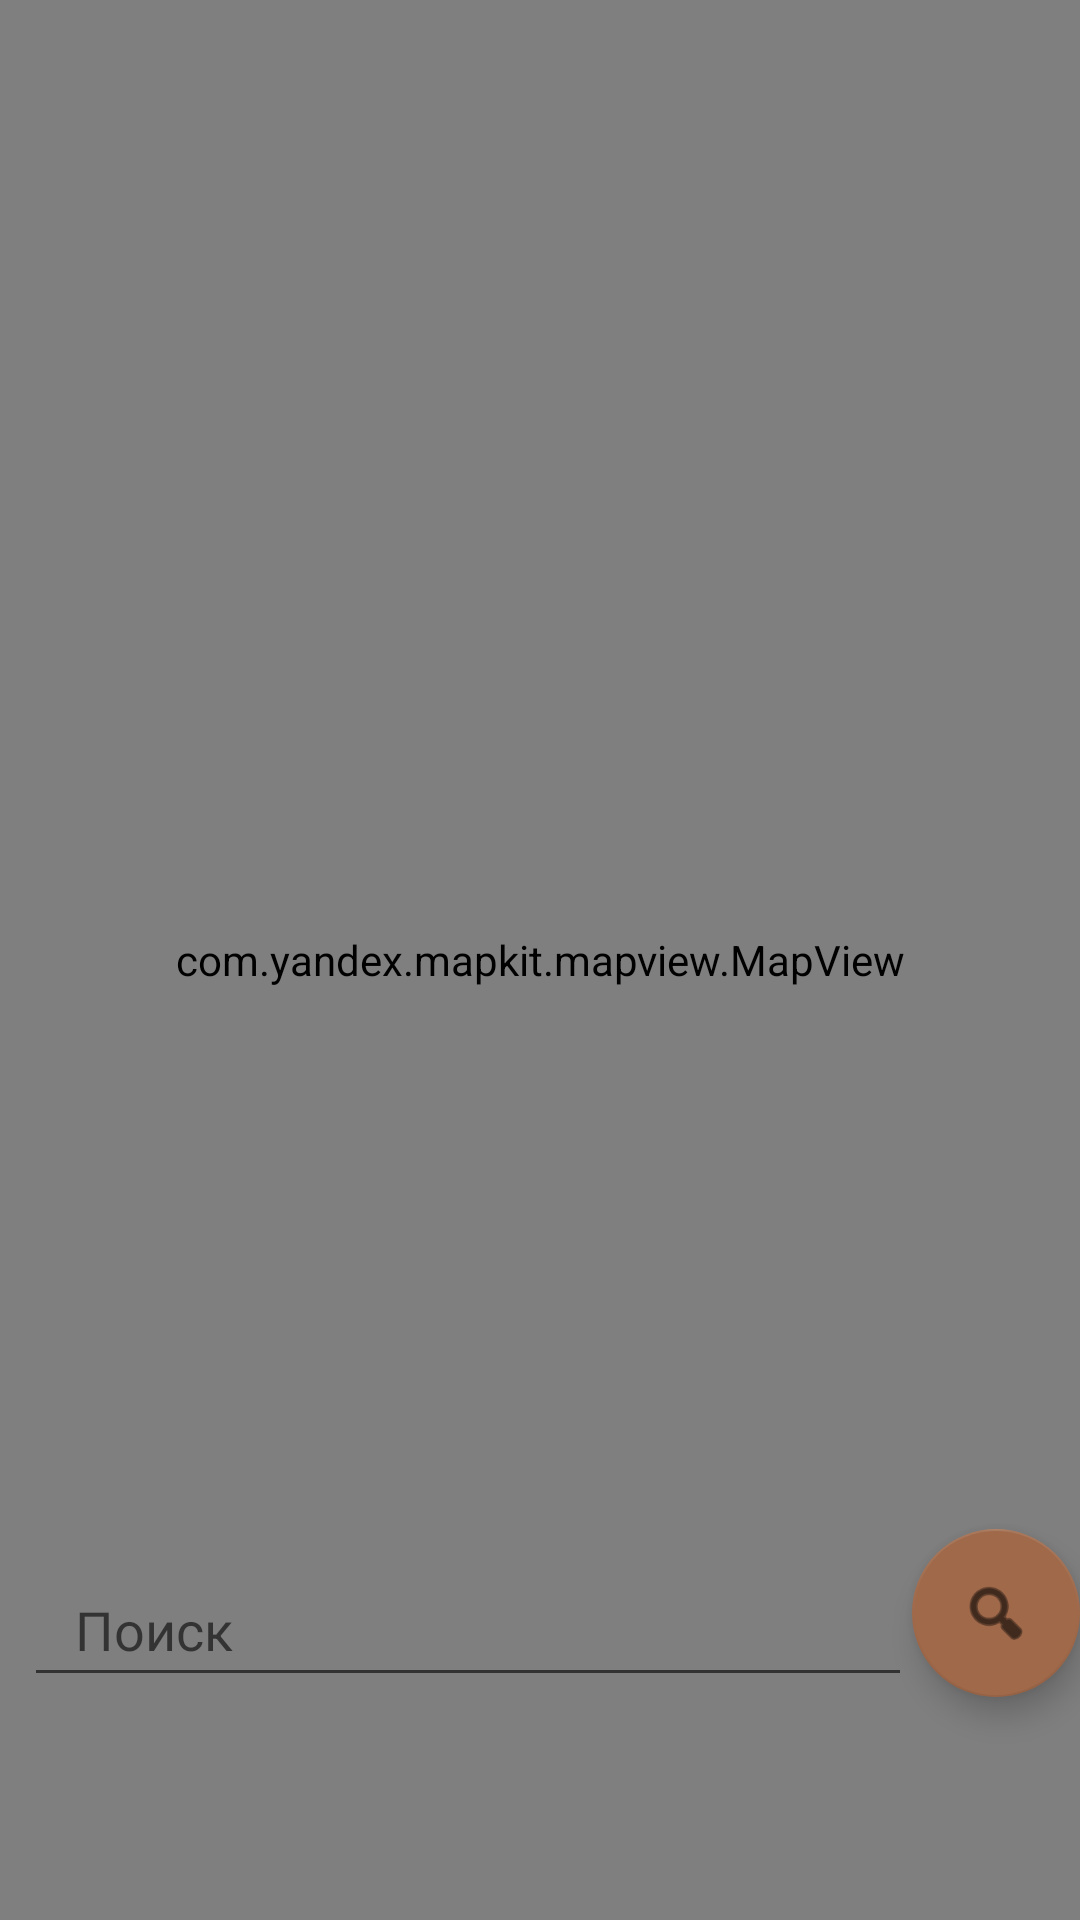

Point at icon controls on the screen. Image size 1080x1920, points as [x,y].
Search: [996,1613]
